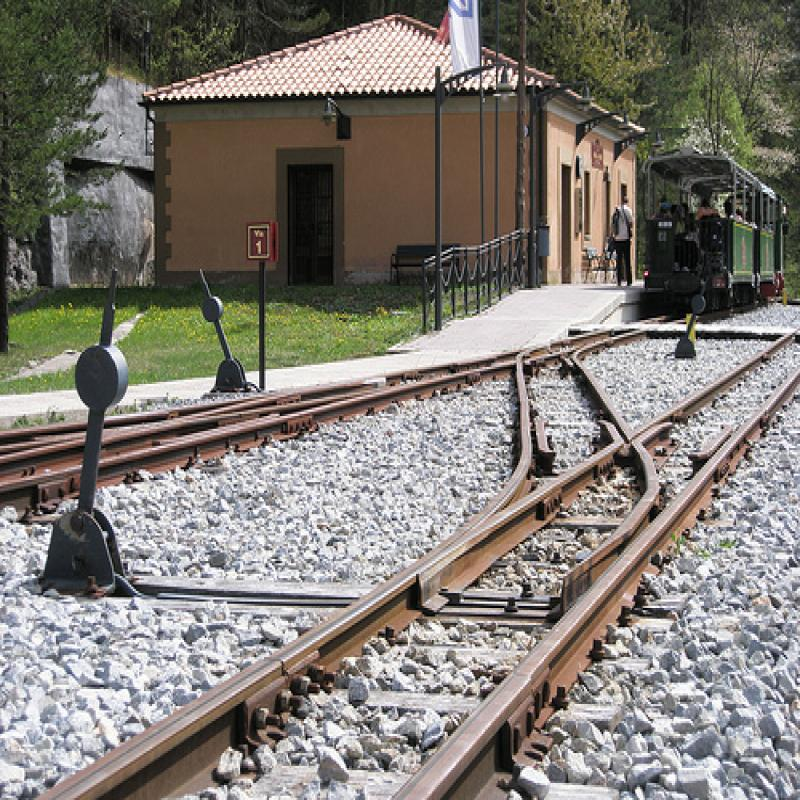train: (648, 152, 787, 319)
